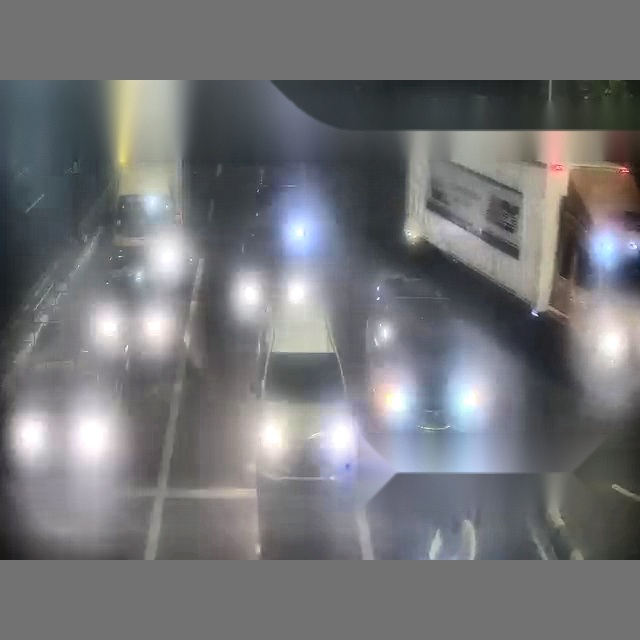Mobil: (256, 314, 359, 478)
